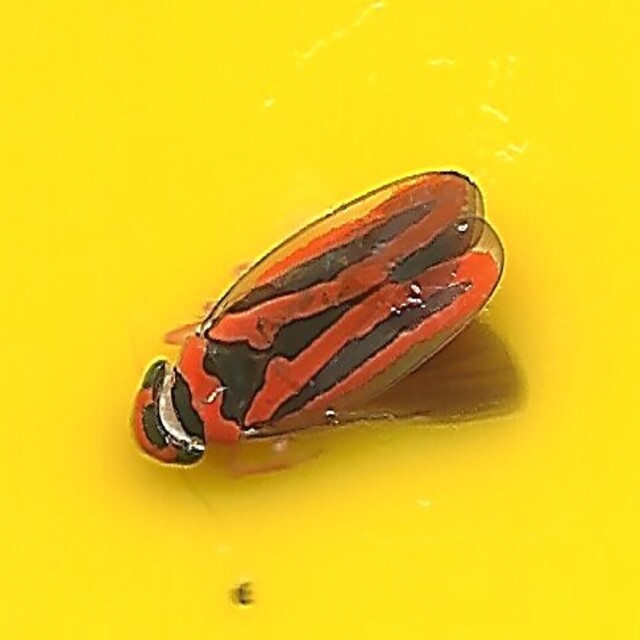Hemiptera: (132, 170, 508, 470)
